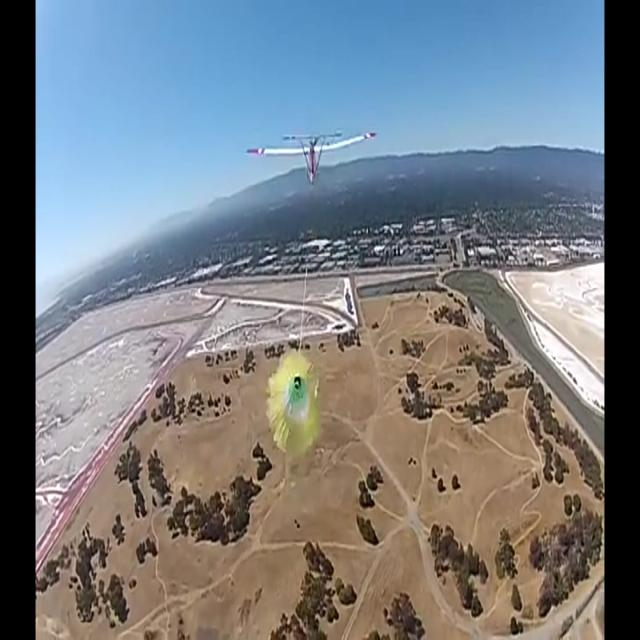iha: (246, 130, 379, 188)
